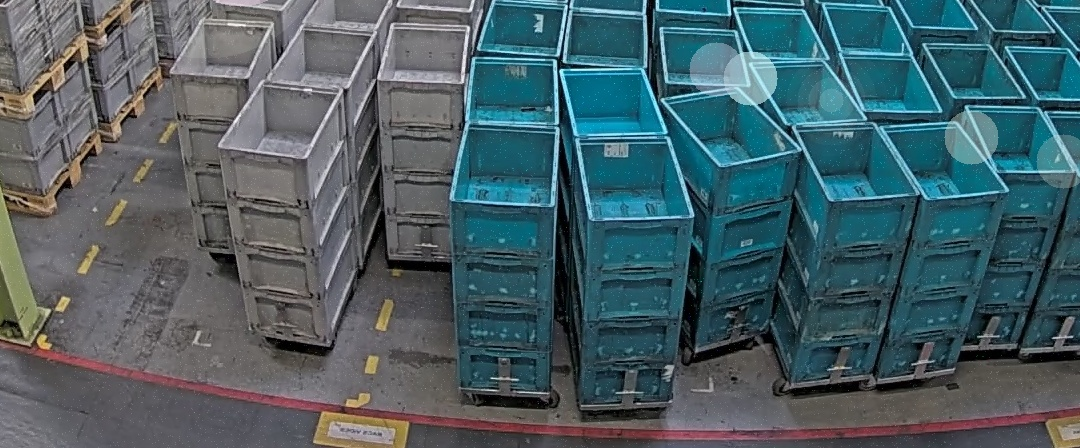4G: (217, 80, 359, 343), (168, 18, 278, 250), (376, 22, 471, 259)
B4: (768, 119, 922, 383), (658, 85, 804, 348), (567, 134, 696, 406), (876, 120, 1010, 381), (448, 120, 561, 393), (950, 104, 1073, 348)
